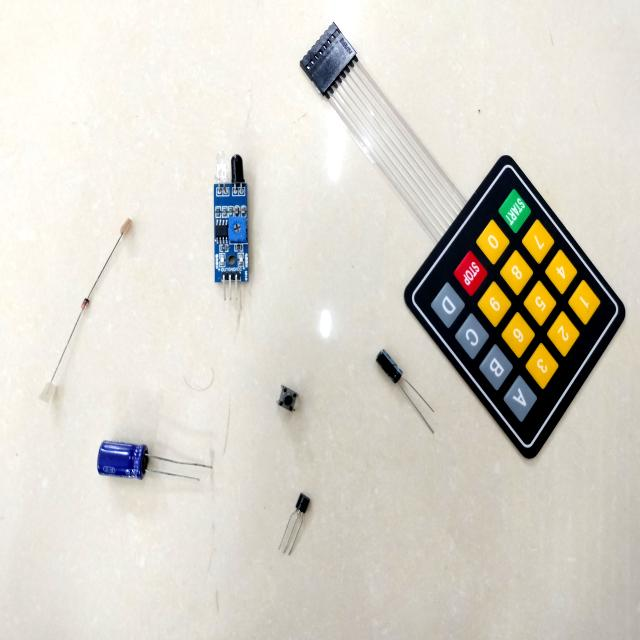capacitor: (97, 441, 148, 477), (376, 350, 402, 383)
